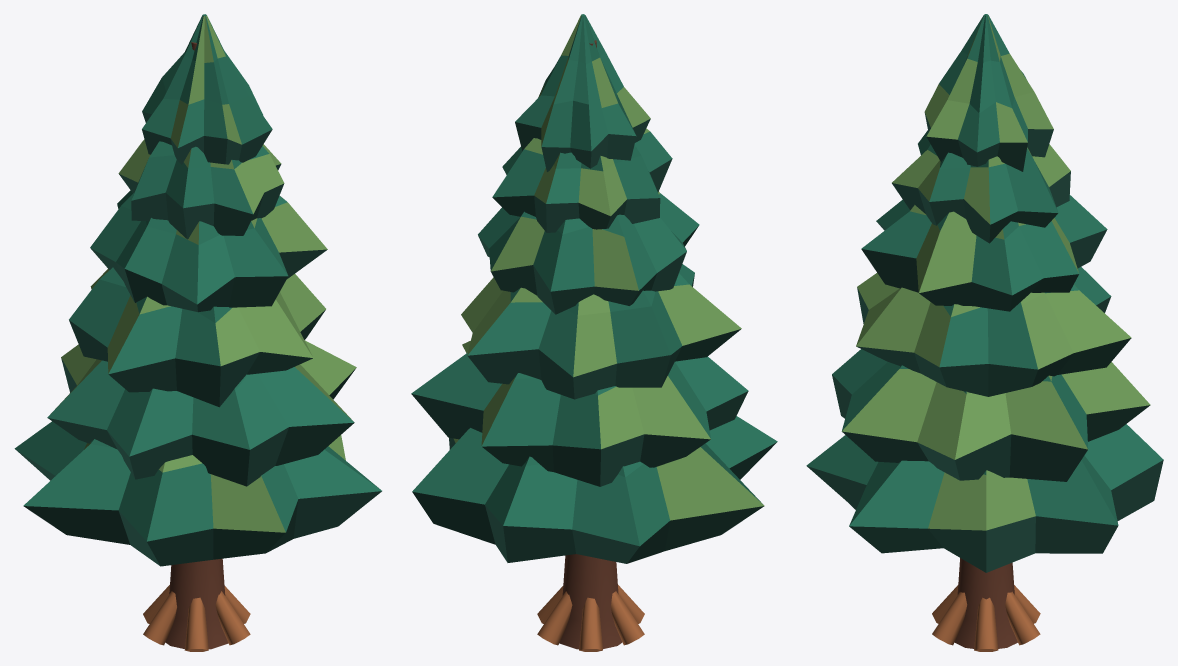
Rendered from spruce_tree.glb.
3 renders of one model, left to right at view 1: azimuth 30°, elevation 25°; view 2: azimuth 150°, elevation 25°; view 3: azimuth 270°, elevation 25°, orthographic.
Parts seen in each view (by area): view 1: Needles, Trunk; view 2: Needles, Trunk; view 3: Needles, Trunk.
Boxes of the visible parts, left/top/right/bottom form: Needles: left=14, top=14, right=381, bottom=566; Trunk: left=143, top=42, right=250, bottom=651; Needles: left=411, top=14, right=777, bottom=563; Trunk: left=537, top=40, right=644, bottom=651; Needles: left=806, top=14, right=1163, bottom=572; Trunk: left=932, top=558, right=1040, bottom=651.
Bounding box in the file's own units: 2.87 × 5.31 × 2.76.
